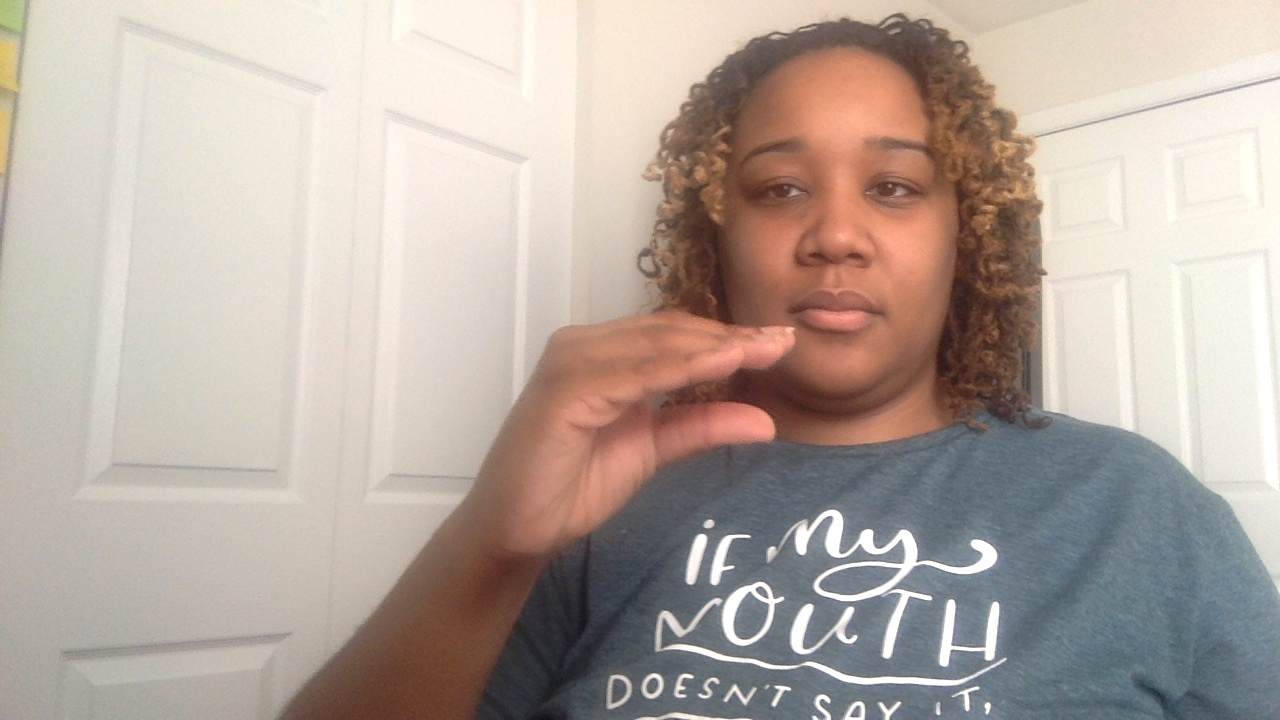no: (457, 308, 796, 560)
